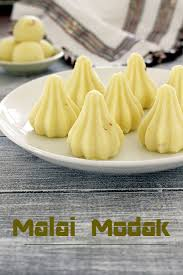modak: (37, 69, 183, 157)
